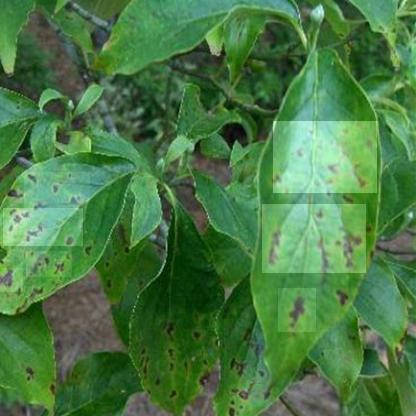black-spot: (273, 121, 377, 193), (262, 204, 366, 273), (136, 312, 206, 370), (224, 319, 262, 402), (3, 208, 83, 246), (25, 172, 90, 208), (278, 288, 316, 332), (26, 252, 72, 278), (0, 268, 23, 292)
